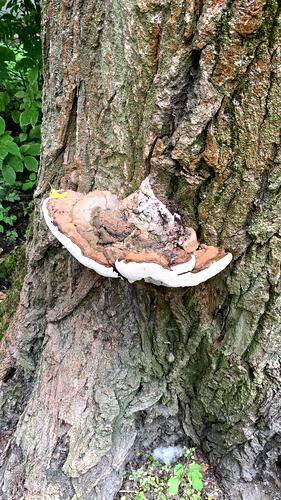Ganoderma - Fruit Body: (35, 182, 236, 290)
